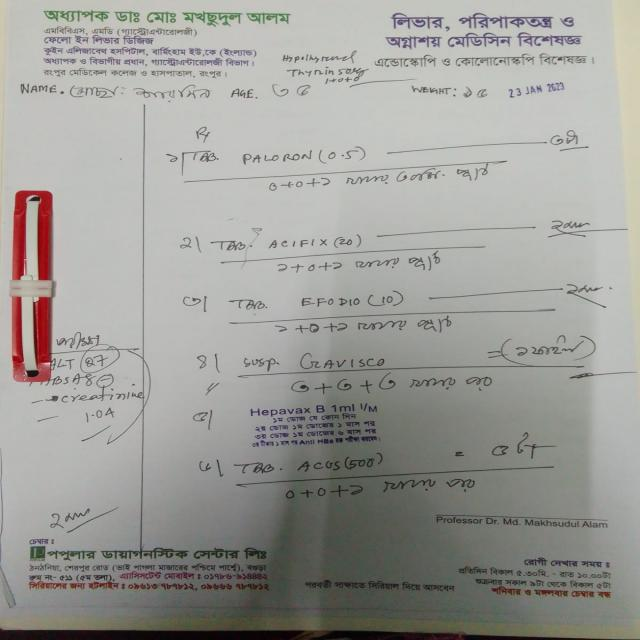Acifix: (261, 233, 330, 251)
Acos: (287, 455, 348, 475)
Efodio: (295, 290, 368, 312)
Gaviscon: (288, 347, 395, 372)
Paloron: (229, 146, 322, 171)
